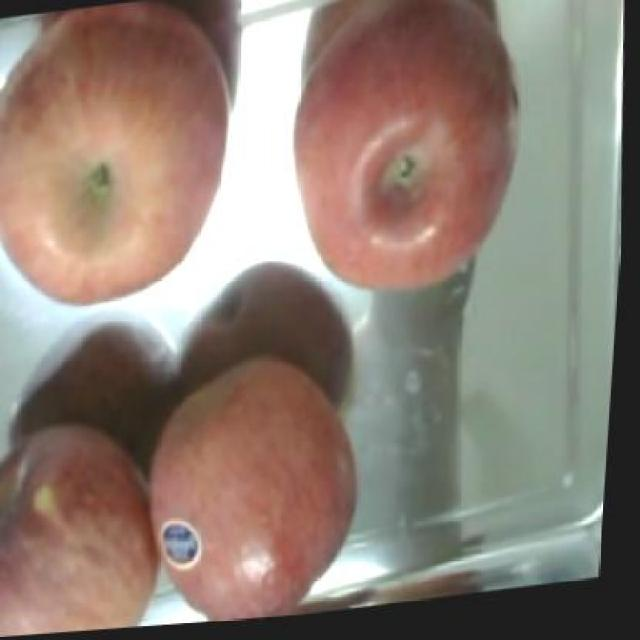Fresh Apple: (288, 12, 524, 302), (5, 23, 217, 295), (148, 368, 362, 632), (11, 409, 158, 640)
